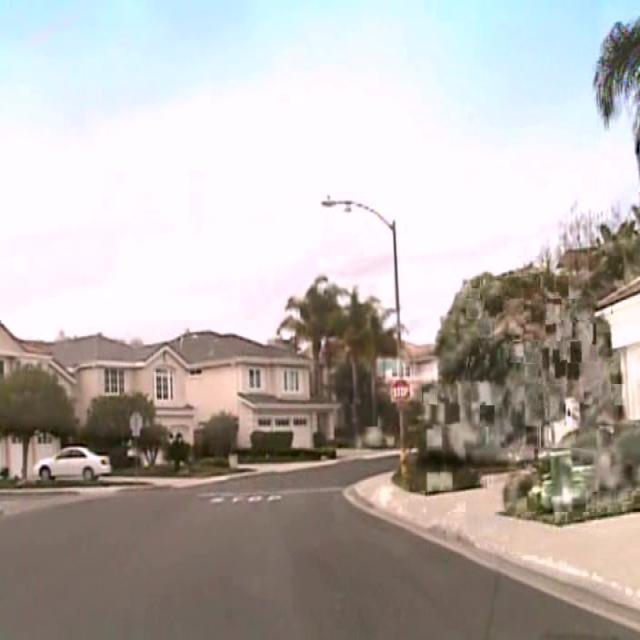stop: (391, 376, 411, 405)
